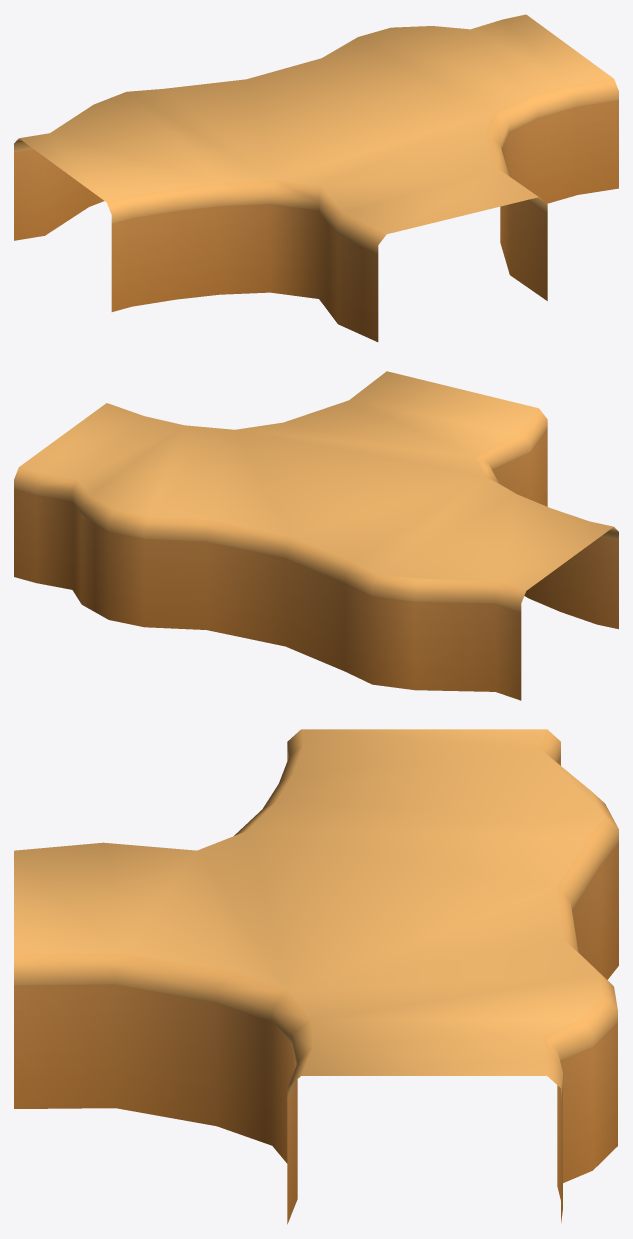
File: T Junction 02.FBX
3 views of the same model, one above another, from view 1: azimuth 30°, elevation 25°; view 2: azimuth 150°, elevation 25°; view 3: azimuth 270°, elevation 25° (orthographic). The views are drawn at different scales.
Visible parts, largest first — view 1: T Junction 02; view 2: T Junction 02; view 3: T Junction 02.
Boxes of the visible parts, left/top/right/bottom form: T Junction 02: left=14, top=14, right=618, bottom=341; T Junction 02: left=14, top=371, right=618, bottom=700; T Junction 02: left=14, top=729, right=618, bottom=1224.
Size of the model in its own units: 1500 by 300 by 1106.
Materials: 1 (1 with a texture image).
